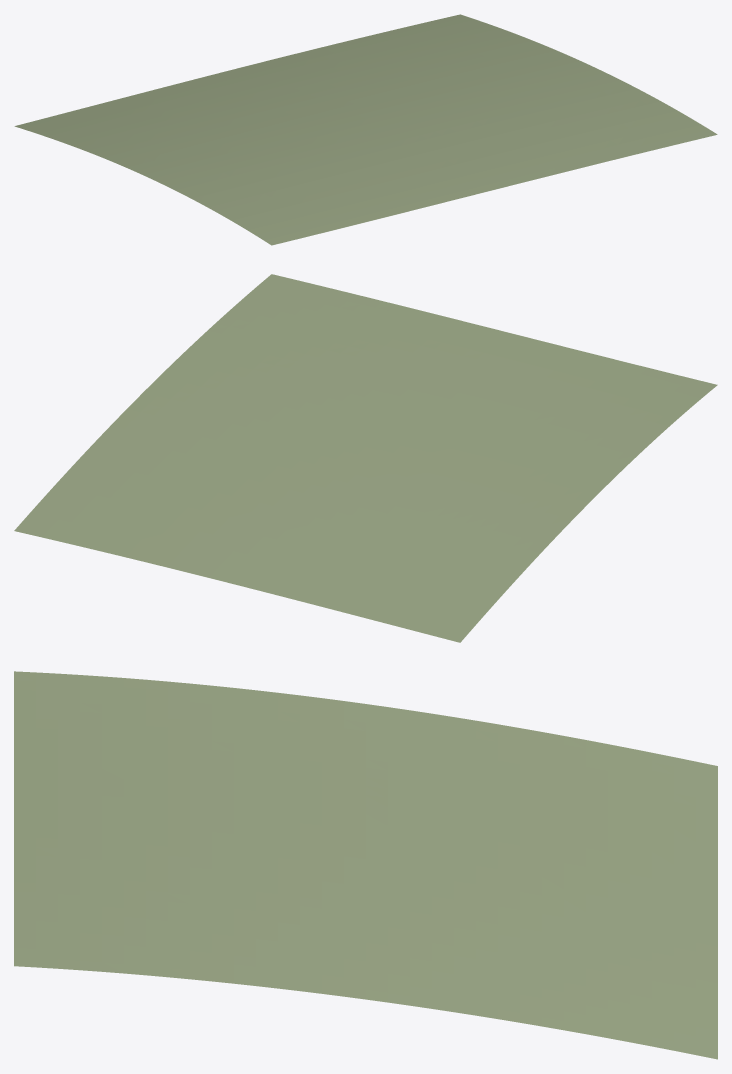
The model's file is expanse-31-6.glb.
3 views of the same model, one above another, from view 1: azimuth 30°, elevation 25°; view 2: azimuth 150°, elevation 25°; view 3: azimuth 270°, elevation 25° (orthographic). The views are drawn at different scales.
Visible parts, largest first — view 1: expanse-31-6; view 2: expanse-31-6; view 3: expanse-31-6.
Boxes of the visible parts, x1,y1,x2,y2 form: expanse-31-6: (14, 14, 717, 245); expanse-31-6: (14, 274, 717, 642); expanse-31-6: (14, 671, 717, 1059).
Size of the model in its own units: 256 by 39.19 by 256.
